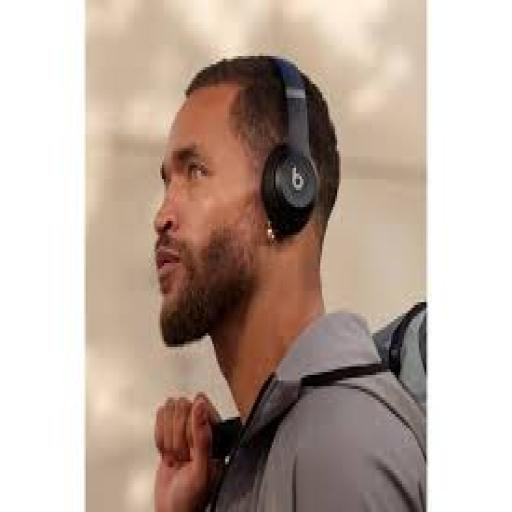earphone: (261, 56, 318, 240)
